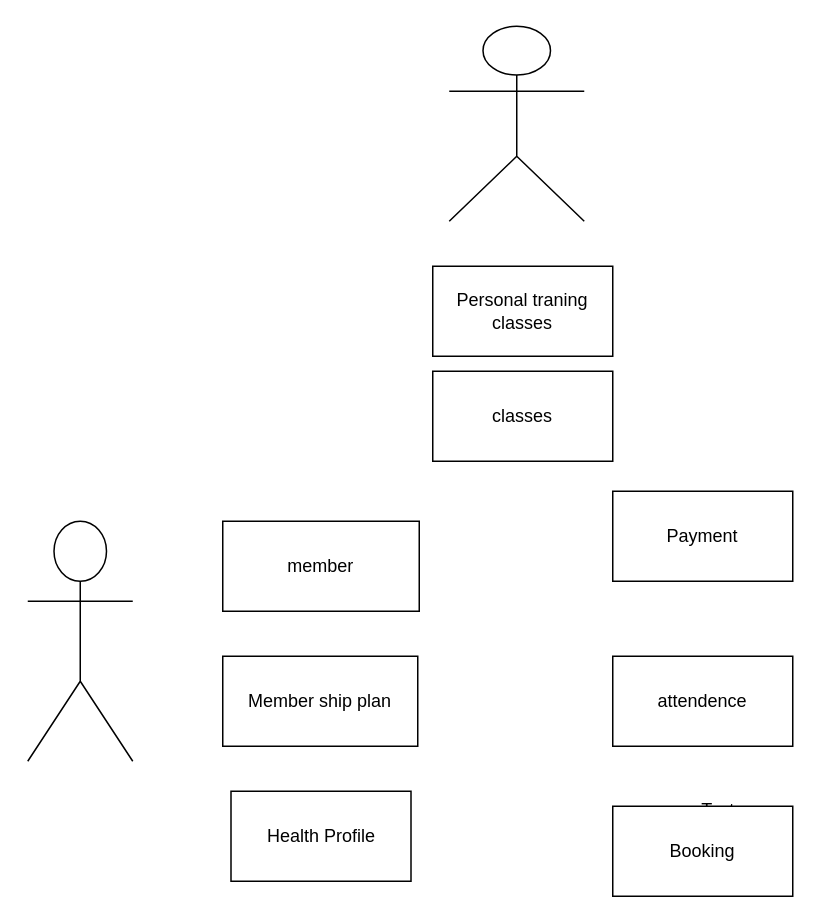
Image size: 819x923. Some labels were removed from this diagram. Each missing label, with the box of its shape:
Gym Member: (26, 520, 133, 761)
Staff/Admin: (448, 25, 584, 221)
